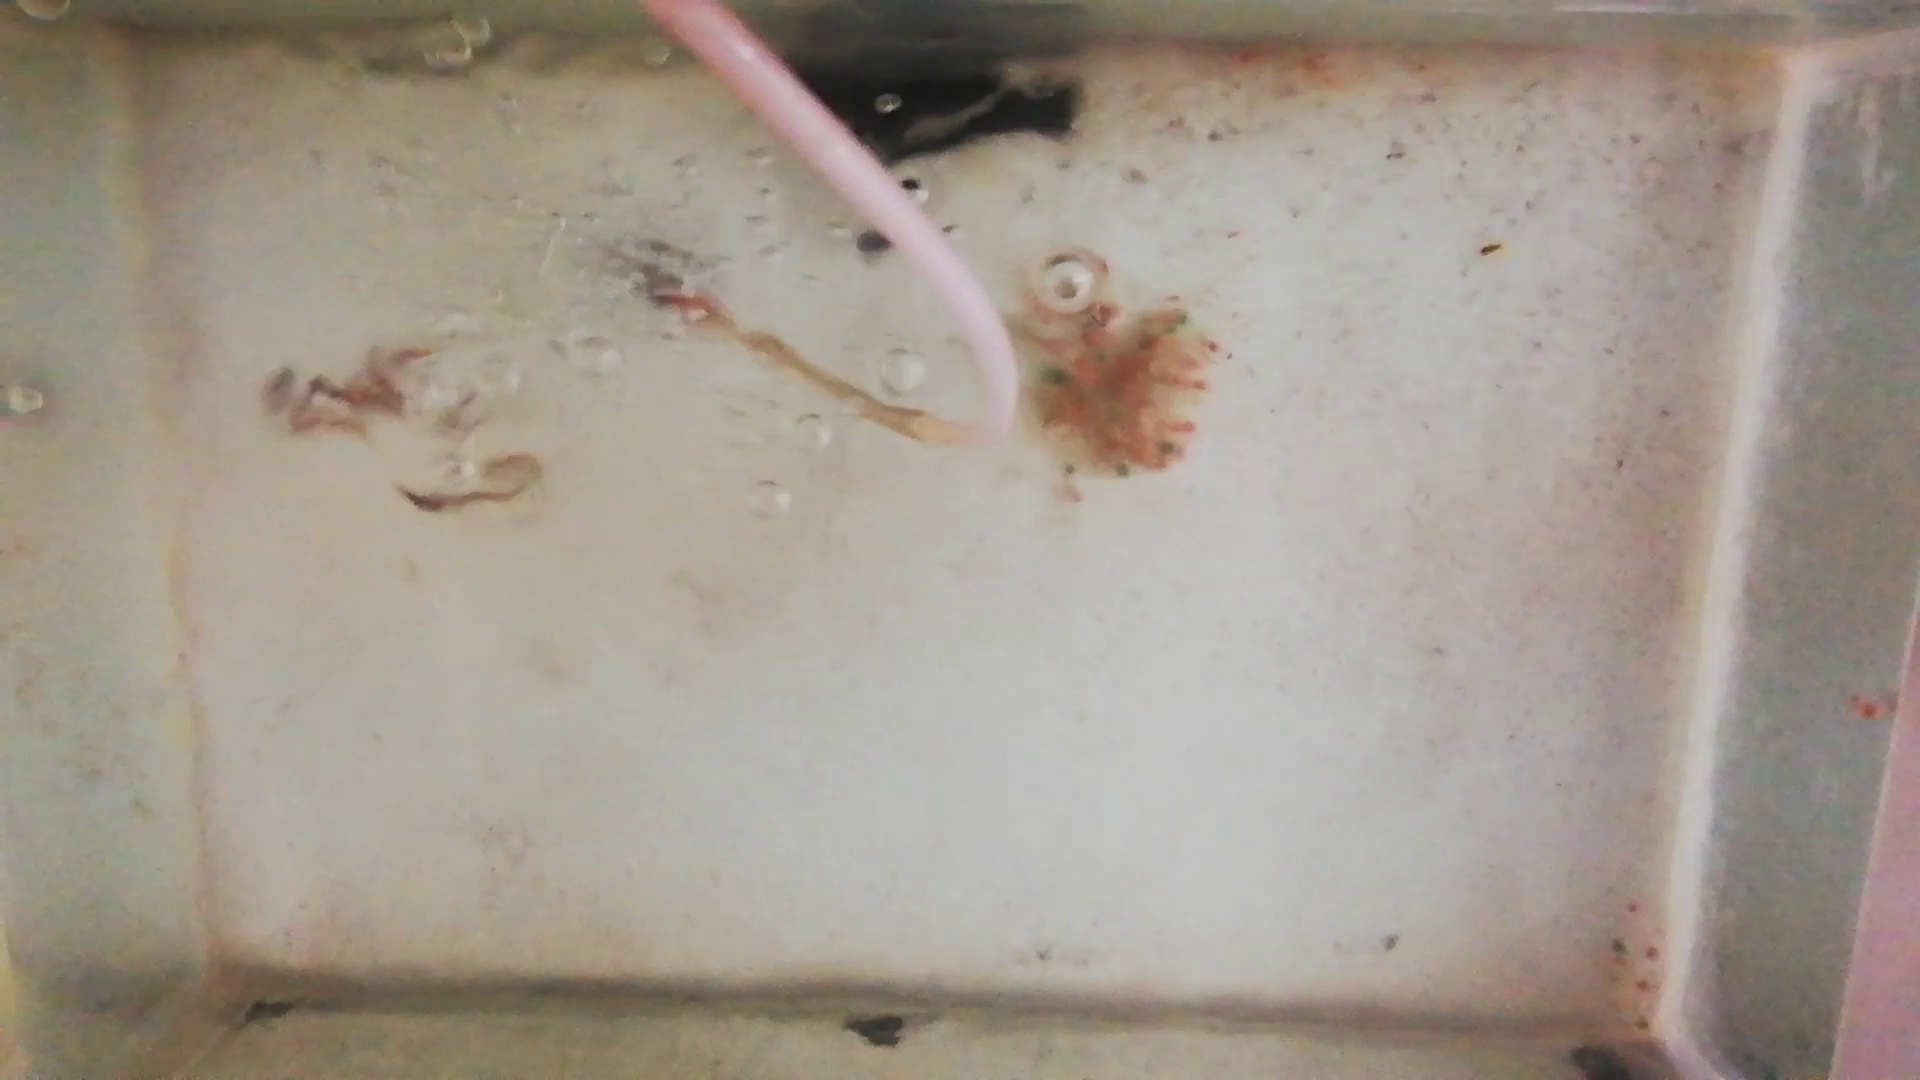fish: (262, 353, 425, 436), (401, 462, 538, 513)
